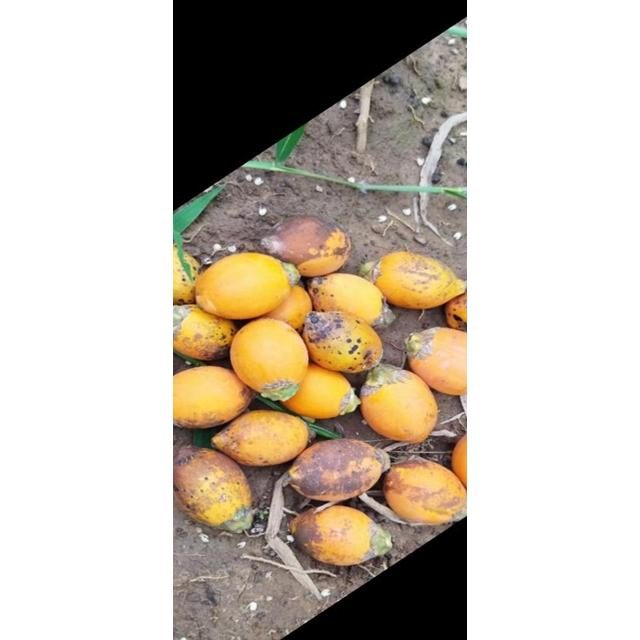good: (173, 447, 253, 531), (229, 318, 309, 399), (288, 505, 392, 565), (287, 439, 387, 501), (359, 366, 437, 442), (368, 252, 467, 308), (383, 458, 467, 524), (212, 410, 310, 466), (261, 216, 351, 274), (174, 366, 254, 429), (302, 311, 382, 374), (278, 364, 356, 421), (306, 272, 386, 326), (406, 328, 466, 396), (174, 303, 238, 362), (258, 284, 312, 332)
